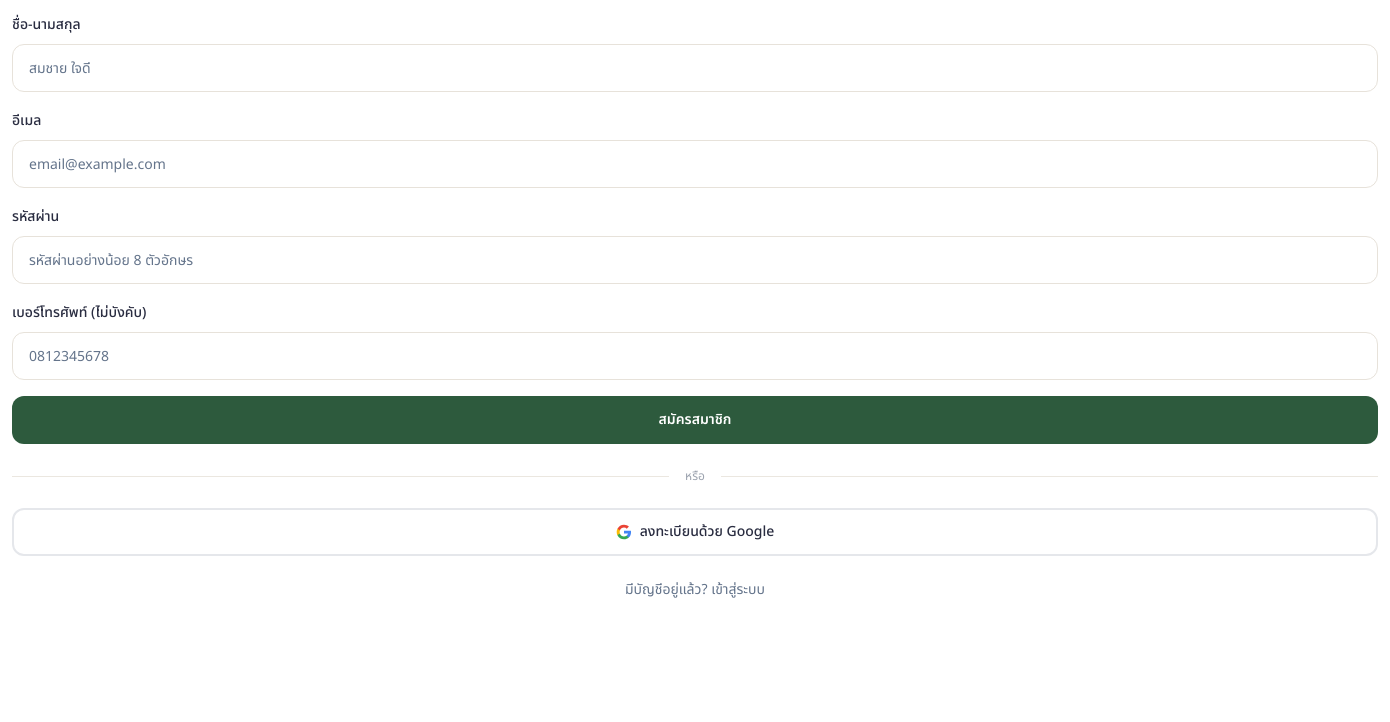
SignupForm › Validation › shows validation error for password without number
This screenshot has width=1390, height=722.
In the password field labelled "รหัสผ่าน": (695,260) [12,236,1378,284], type "PasswordOnly"
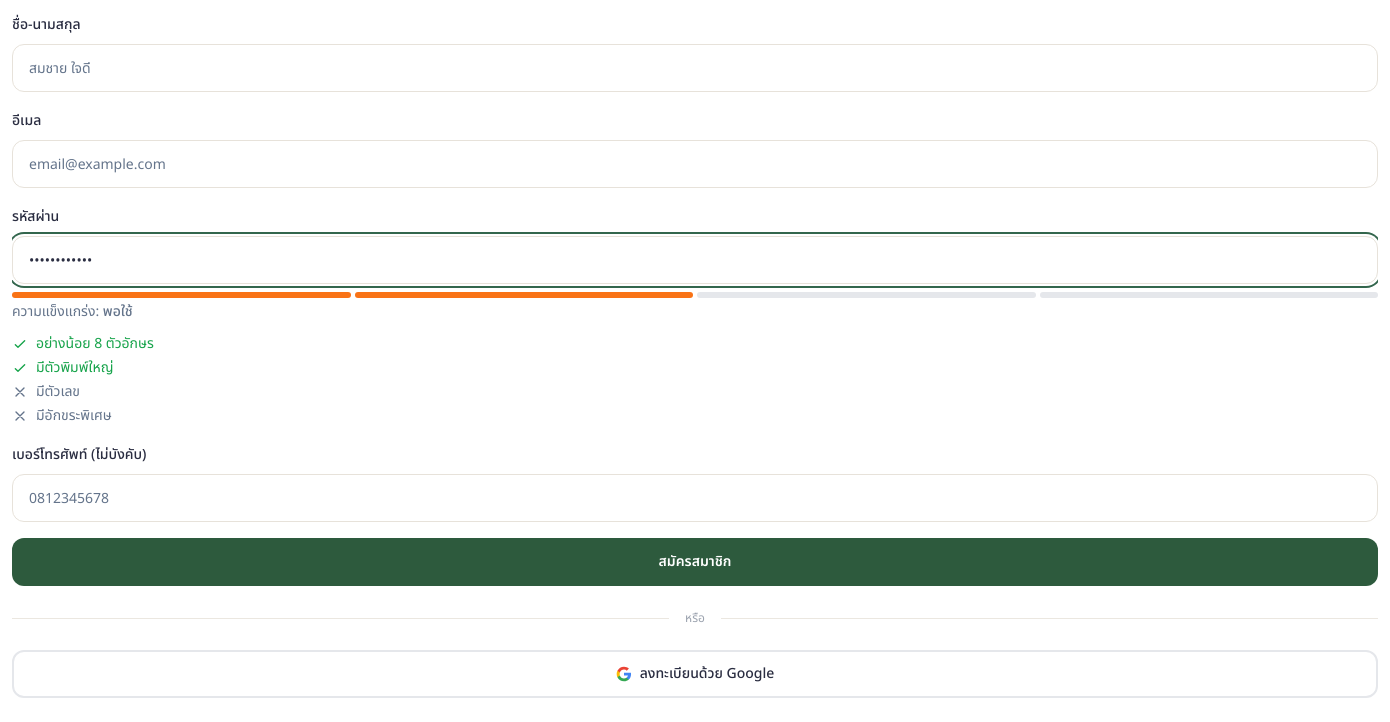
Click the button "สมัครสมาชิก": (695,562) [12,538,1378,586]
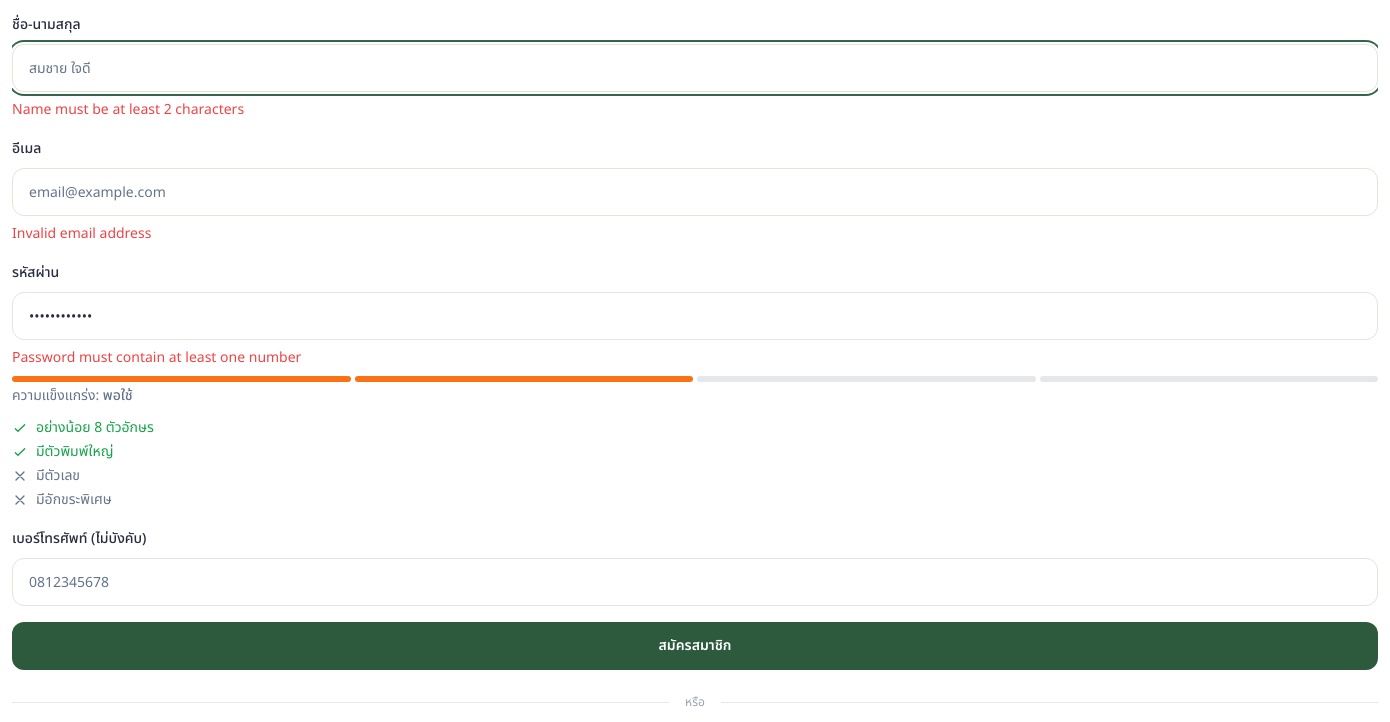
Expected: the text "Password must contain at least one number" is shown, [12,347,301,368]
